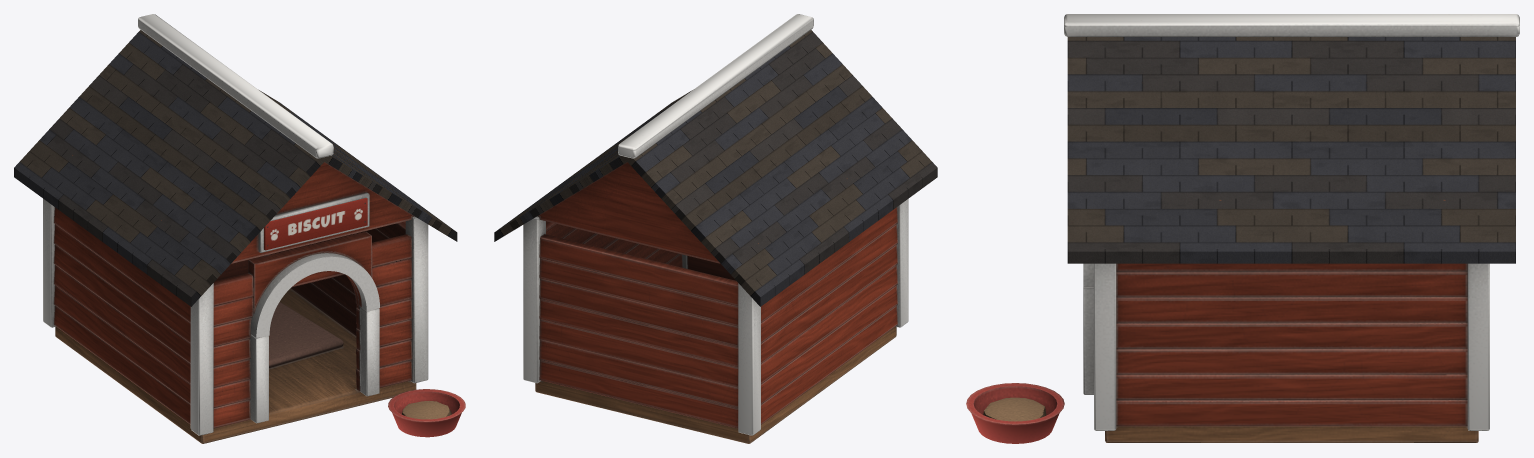
File: WFKennel.fbx
3 views of the same model, side by side, from view 1: azimuth 30°, elevation 25°; view 2: azimuth 150°, elevation 25°; view 3: azimuth 270°, elevation 25° (orthographic). The views are drawn at different scales.
Parts seen in each view (by area): view 1: WFKennel_Main, WFKennel_Roof, WFKennel_Sign; view 2: WFKennel_Main, WFKennel_Roof; view 3: WFKennel_Roof, WFKennel_Main.
Boxes of the visible parts, left/top/right/bottom form: WFKennel_Main: left=43, top=14, right=465, bottom=443; WFKennel_Roof: left=14, top=30, right=457, bottom=306; WFKennel_Sign: left=264, top=198, right=367, bottom=250; WFKennel_Main: left=523, top=14, right=908, bottom=443; WFKennel_Roof: left=494, top=30, right=937, bottom=306; WFKennel_Roof: left=1067, top=37, right=1515, bottom=263; WFKennel_Main: left=966, top=14, right=1519, bottom=443.
Size of the model in its own units: 520 by 531 by 741.
